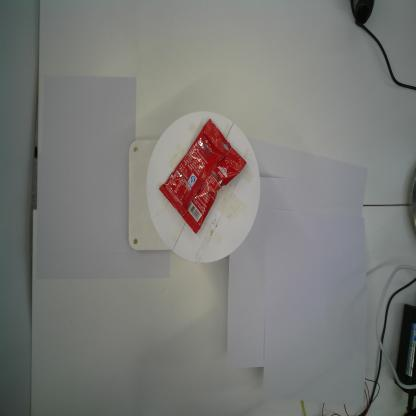Instant Drink: (159, 119, 247, 236)
